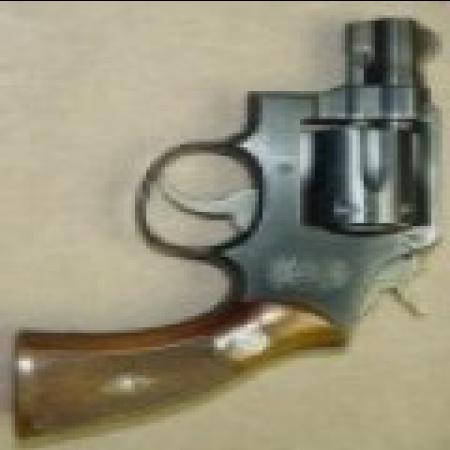Pistol: (19, 20, 447, 444)
